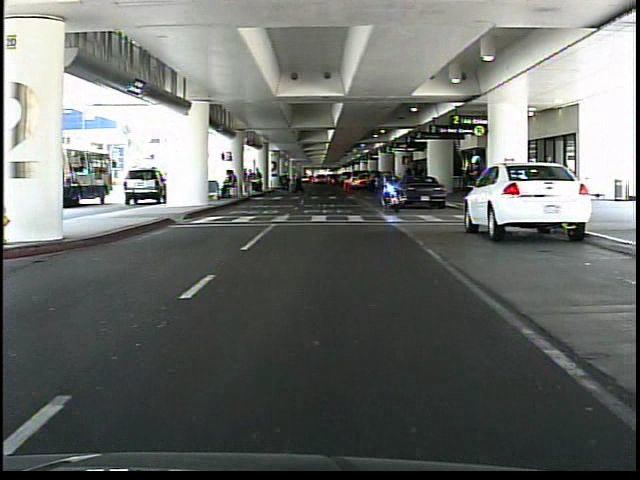person: (462, 150, 487, 224)
